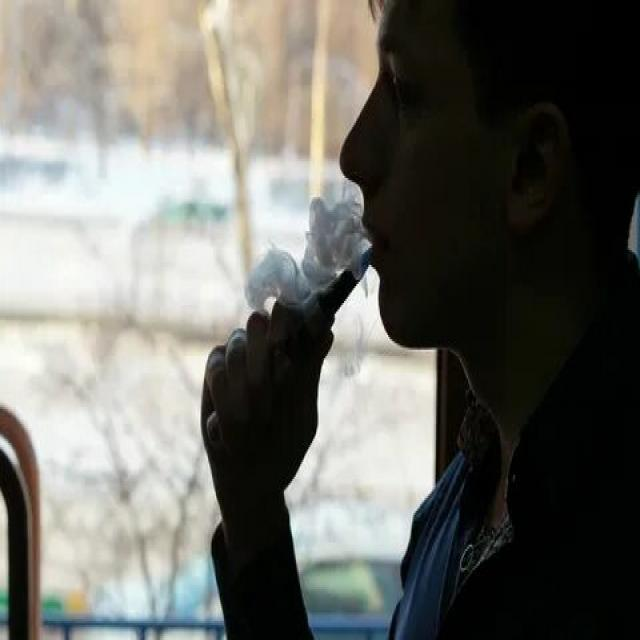smoke: (204, 233, 377, 454)
